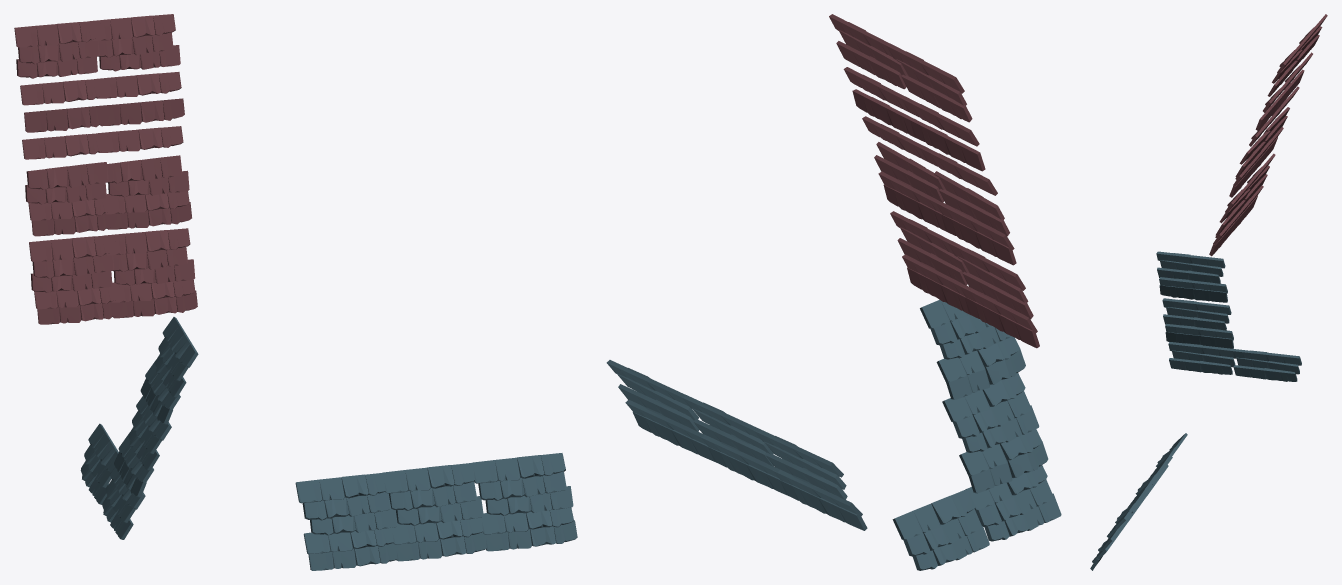
Rendered from WindRoof.fbx.
The picture shows the model from 3 angles, left to right: view 1: azimuth 30°, elevation 25°; view 2: azimuth 150°, elevation 25°; view 3: azimuth 270°, elevation 25°; orthographic projection. The views are drawn at different scales.
Visible parts, largest first — view 1: WindRoof_Merged; view 2: WindRoof_Merged; view 3: WindRoof_Merged.
Boxes of the visible parts, x1,y1,x2,y2 form: WindRoof_Merged: (14,14,577,570); WindRoof_Merged: (606,14,1061,570); WindRoof_Merged: (1090,14,1327,570).
Bounding box in the file's own units: 1983 × 2176 × 1163.
